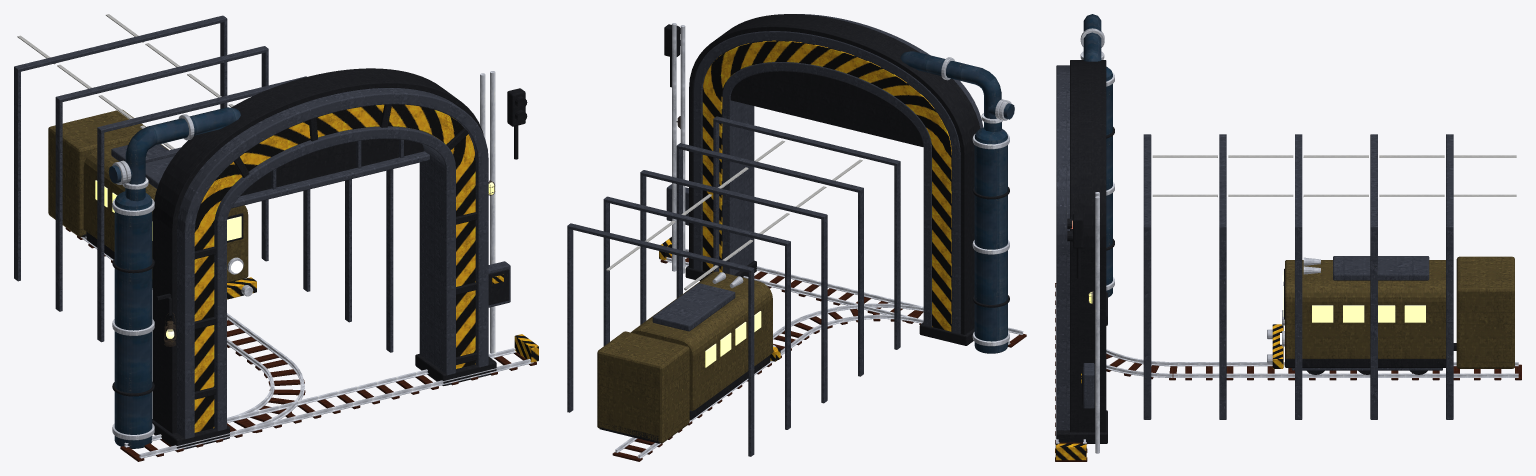
The model's file is fachada_06.glb.
The picture shows the model from 3 angles, left to right: view 1: azimuth 30°, elevation 25°; view 2: azimuth 150°, elevation 25°; view 3: azimuth 270°, elevation 25°; orthographic projection. The views are drawn at different scales.
Parts seen in each view (by area): view 1: F06_aro_int, F06_faixa, F06_aro_ext, F06_labio, F06_tanque, F06_vagao, F06_timpano, F06_loc_corpo, F06_cano, F06_verga, F06_trilho_frente-1, F06_presilha (+20 smaller); view 2: F06_faixa, F06_labio, F06_vagao, F06_aro_int, F06_timpano, F06_aro_ext, F06_loc_corpo, F06_tanque, F06_loc_teto, F06_cano, F06_cambota0_-1, F06_cambota4_-1 (+24 smaller); view 3: F06_labio, F06_loc_corpo, F06_vagao, F06_aro_ext, F06_loc_teto, F06_cambota0_1, F06_trilho_tunel1, F06_cambota3_1, F06_cambota4_1, F06_cambota2_1, F06_cambota1_1, F06_tanque (+14 smaller).
Part boxes in pixels (x1=…): F06_aro_int: x1=214, y1=126, x2=455, y2=440; F06_faixa: x1=194, y1=104, x2=475, y2=432; F06_aro_ext: x1=177, y1=88, x2=488, y2=449; F06_labio: x1=152, y1=68, x2=483, y2=433; F06_tanque: x1=114, y1=202, x2=152, y2=448; F06_vagao: x1=48, y1=109, x2=145, y2=236; F06_timpano: x1=240, y1=139, x2=424, y2=196; F06_loc_corpo: x1=83, y1=140, x2=248, y2=282; F06_cano: x1=125, y1=107, x2=240, y2=201; F06_verga: x1=231, y1=151, x2=429, y2=208; F06_trilho_frente-1: x1=139, y1=359, x2=533, y2=458; F06_presilha: x1=194, y1=104, x2=477, y2=399; F06_faixa: x1=702, y1=40, x2=951, y2=331; F06_labio: x1=689, y1=14, x2=980, y2=334; F06_vagao: x1=597, y1=331, x2=689, y2=443; F06_aro_int: x1=722, y1=62, x2=931, y2=326; F06_timpano: x1=730, y1=71, x2=923, y2=146; F06_aro_ext: x1=693, y1=14, x2=983, y2=333; F06_loc_corpo: x1=631, y1=271, x2=772, y2=410; F06_tanque: x1=974, y1=137, x2=1007, y2=353; F06_loc_teto: x1=652, y1=283, x2=735, y2=331; F06_cano: x1=900, y1=51, x2=1001, y2=131; F06_cambota0_-1: x1=894, y1=163, x2=900, y2=349; F06_cambota4_-1: x1=748, y1=270, x2=754, y2=456; F06_labio: x1=1070, y1=60, x2=1106, y2=432; F06_loc_corpo: x1=1285, y1=260, x2=1445, y2=358; F06_vagao: x1=1456, y1=256, x2=1514, y2=368; F06_aro_ext: x1=1056, y1=65, x2=1069, y2=430; F06_loc_teto: x1=1333, y1=256, x2=1429, y2=280; F06_cambota0_1: x1=1143, y1=226, x2=1151, y2=419; F06_trilho_tunel1: x1=1173, y1=373, x2=1518, y2=377; F06_cambota3_1: x1=1370, y1=226, x2=1377, y2=419; F06_cambota4_1: x1=1446, y1=226, x2=1453, y2=419; F06_cambota2_1: x1=1295, y1=226, x2=1302, y2=419; F06_cambota1_1: x1=1219, y1=226, x2=1226, y2=419; F06_tanque: x1=1106, y1=76, x2=1112, y2=297.
Bounding box in the file's own units: 12.37 × 9.25 × 13.59.
16 materials, 10 textured.
